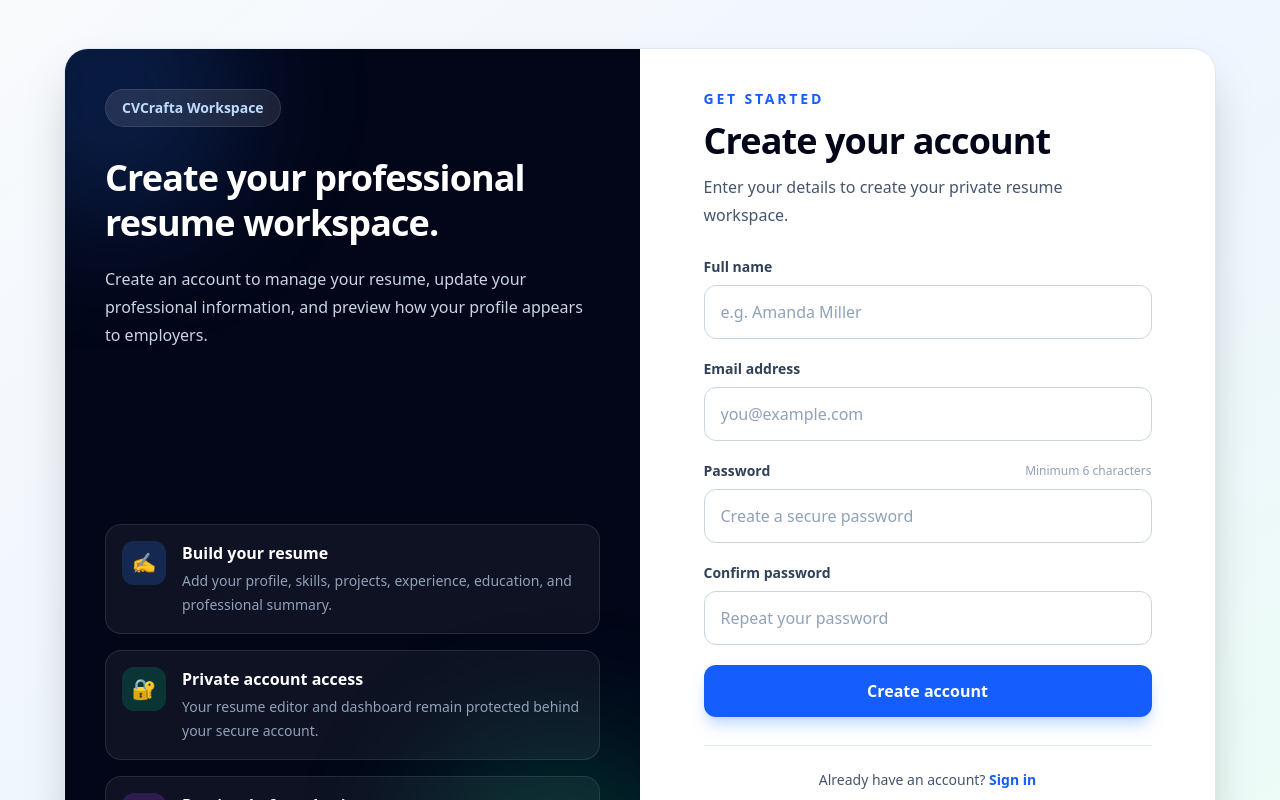
Test case: RegisterPage › does not display or persist password data after registration
In the field labelled "Full name": (928, 312) [704,285,1152,339], type "Test User"
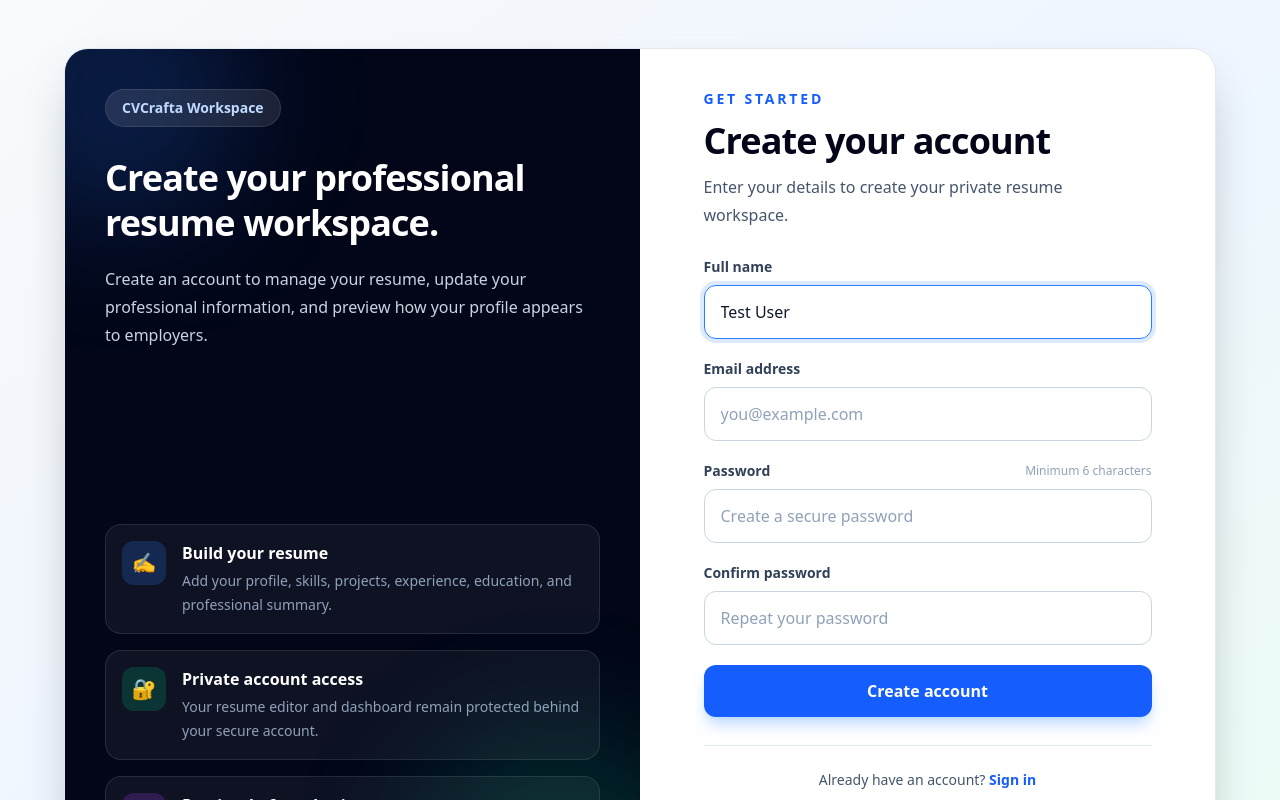
In the field labelled "Email address": (928, 414) [704,387,1152,441], type "user@example.com"
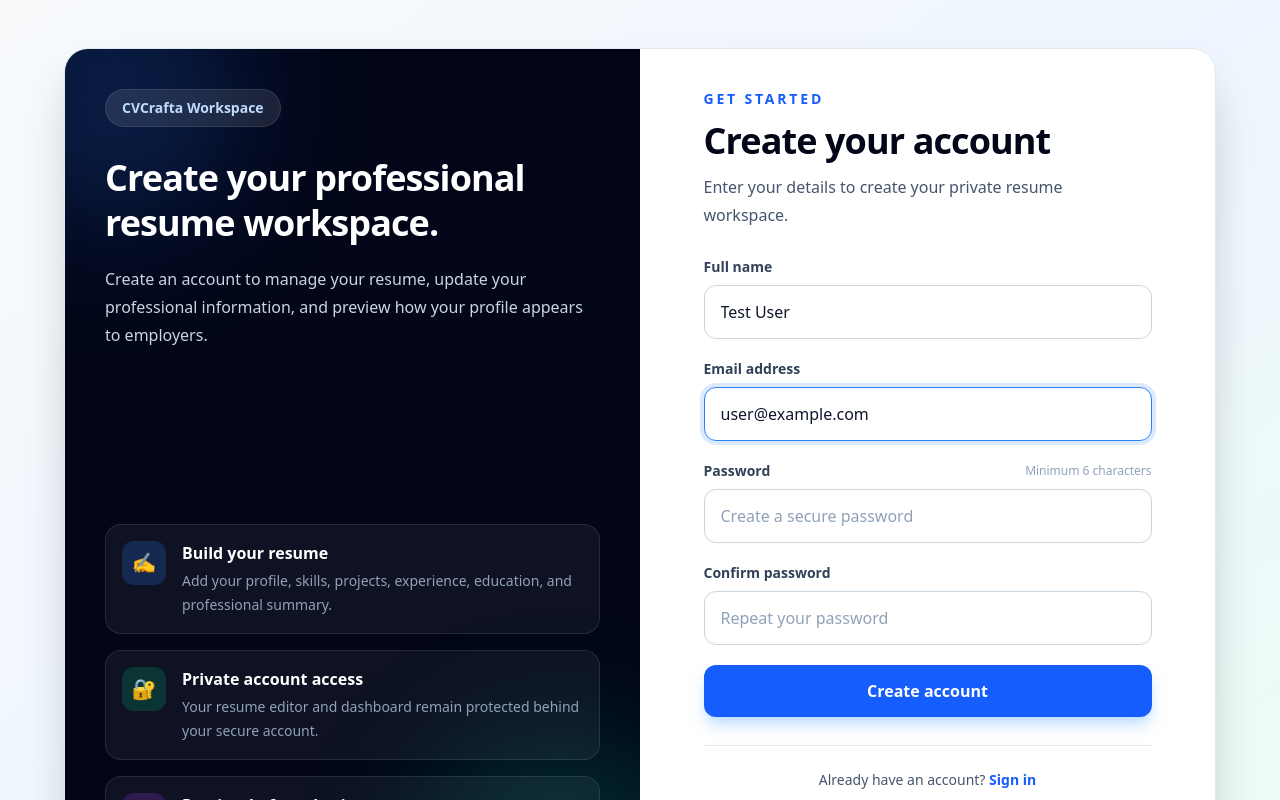
In the password field labelled "Password": (928, 516) [704,489,1152,543], type "PrivatePassword123!"
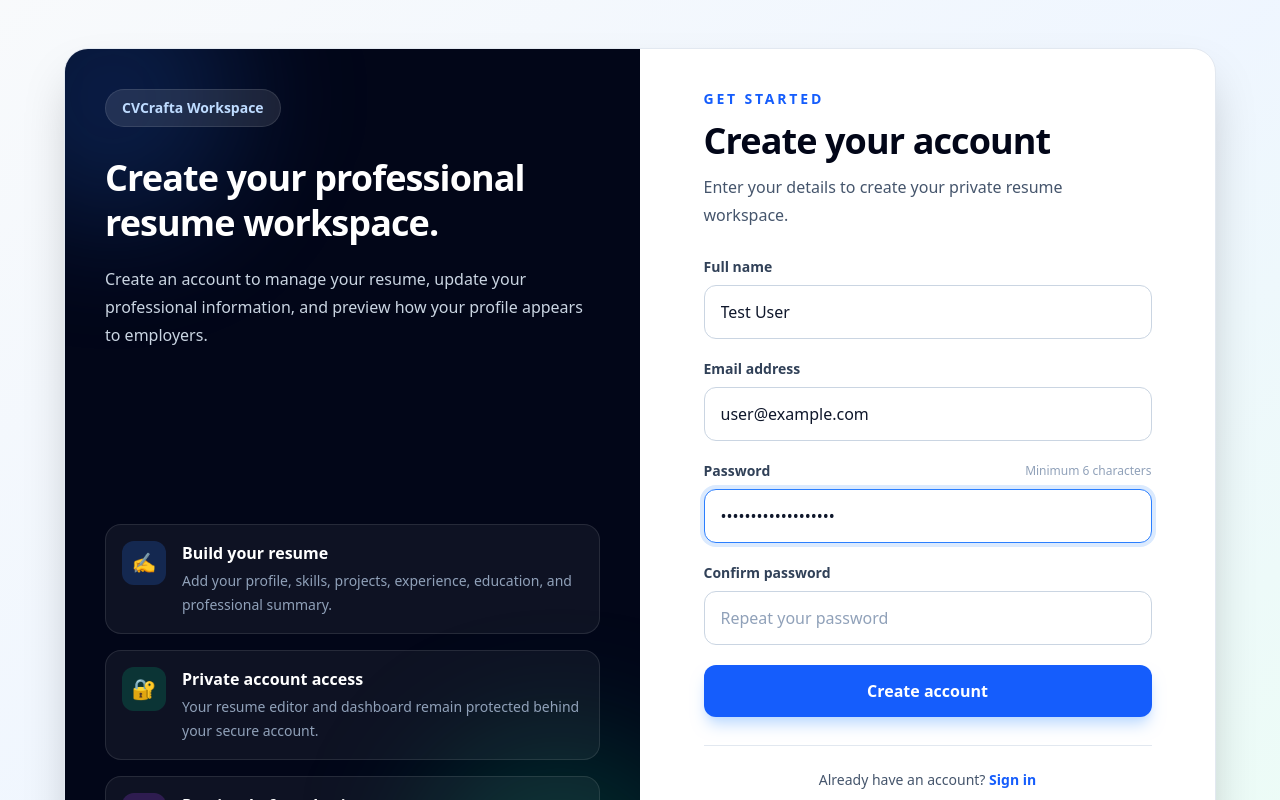
In the password field labelled "Confirm password": (928, 618) [704,591,1152,645], type "PrivatePassword123!"
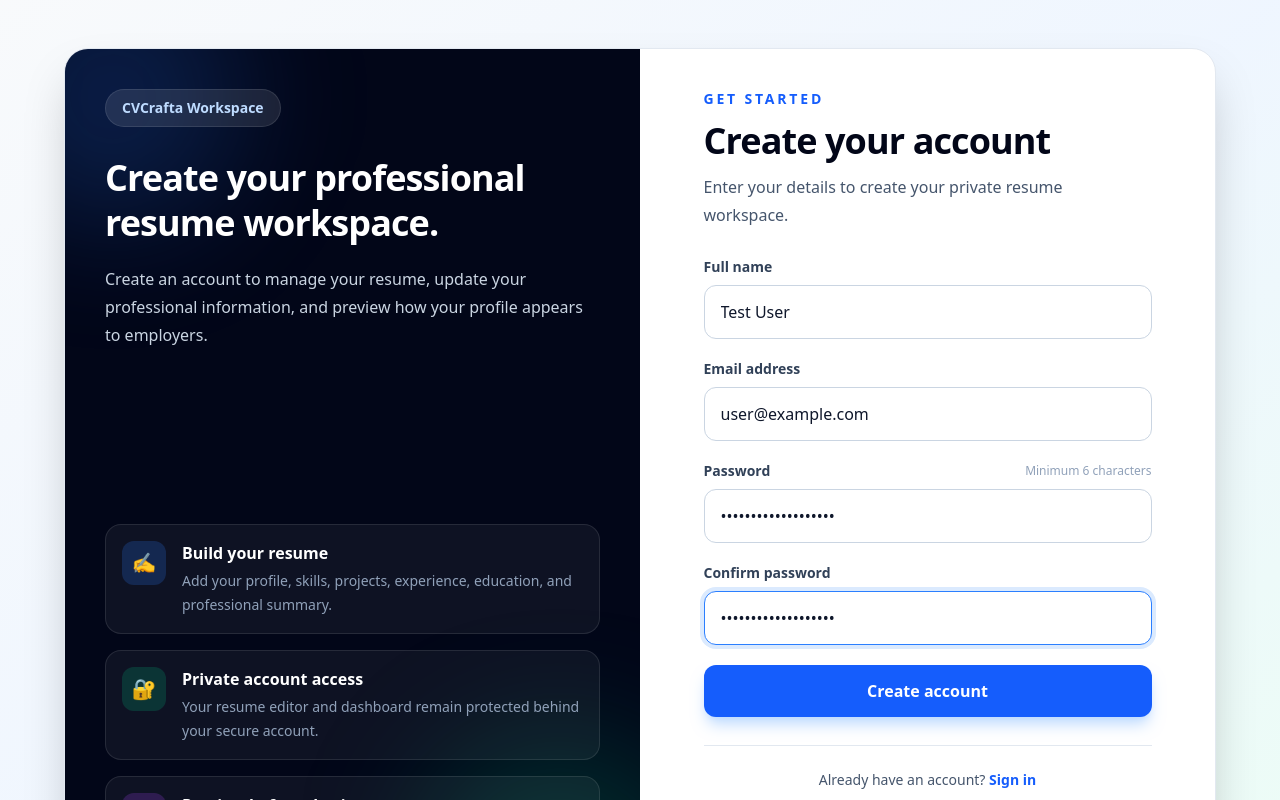
Click the button "Create account": (928, 691) [704,665,1152,717]
(page scrolled)
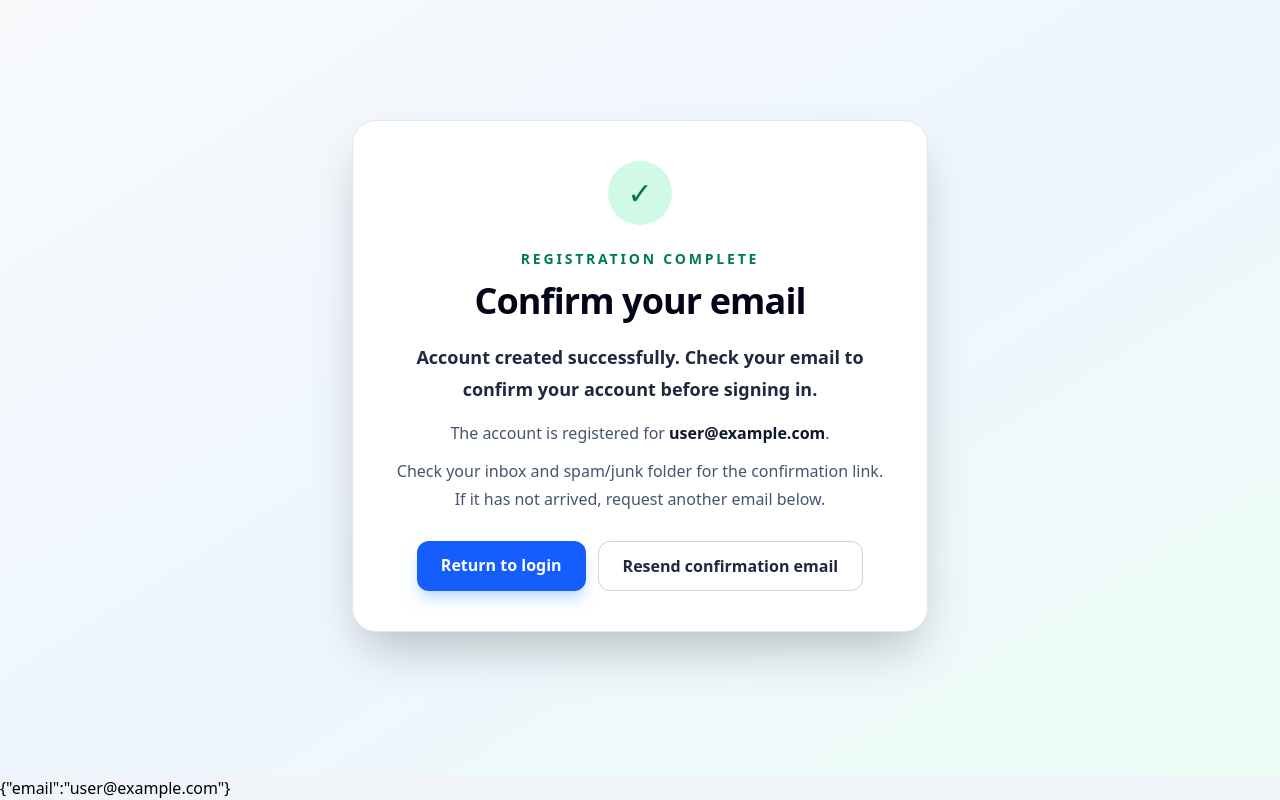
Expected: the text with test id "location-state" does not show "PrivatePassword123!", [0,777,230,799]
Result: the heading "Confirm your email" is shown at [474,276,806,325]
